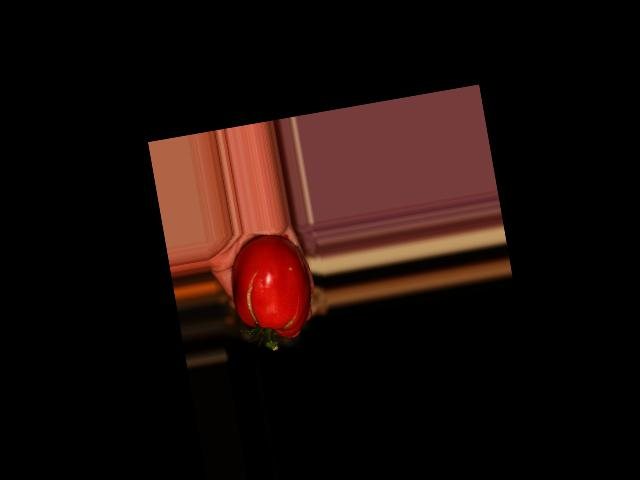tomato: (225, 229, 319, 345)
